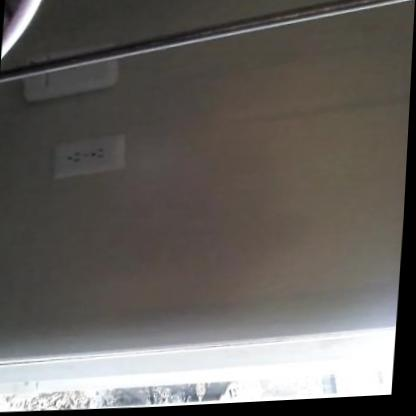OUTLET: (51, 133, 125, 178)
